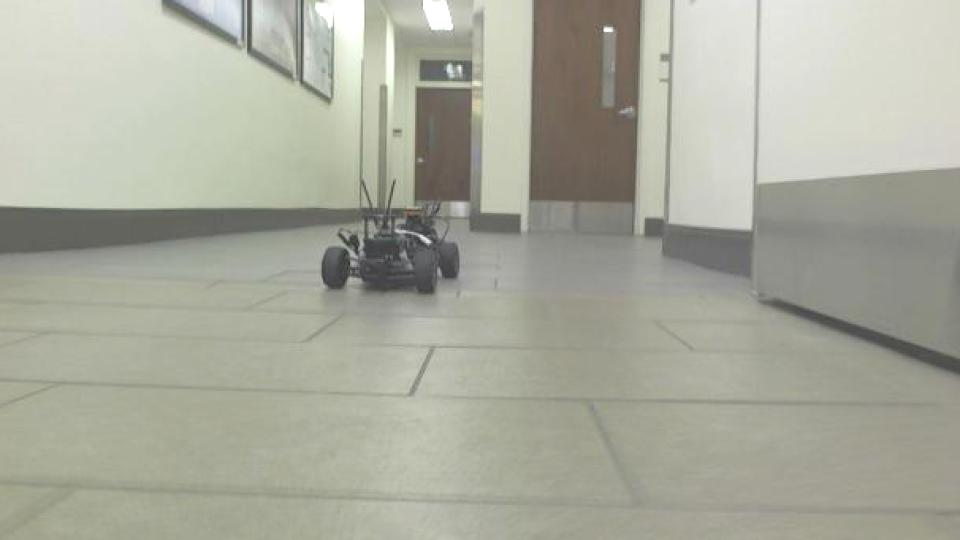car: (319, 175, 464, 297)
